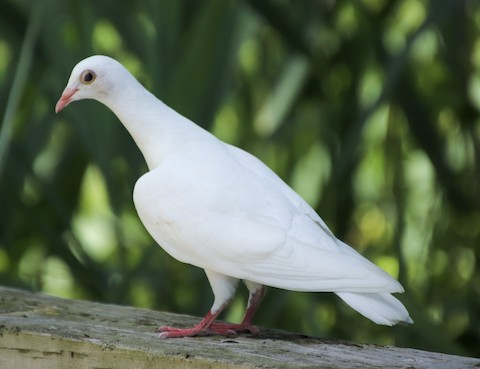pigeon: (47, 50, 419, 344)
